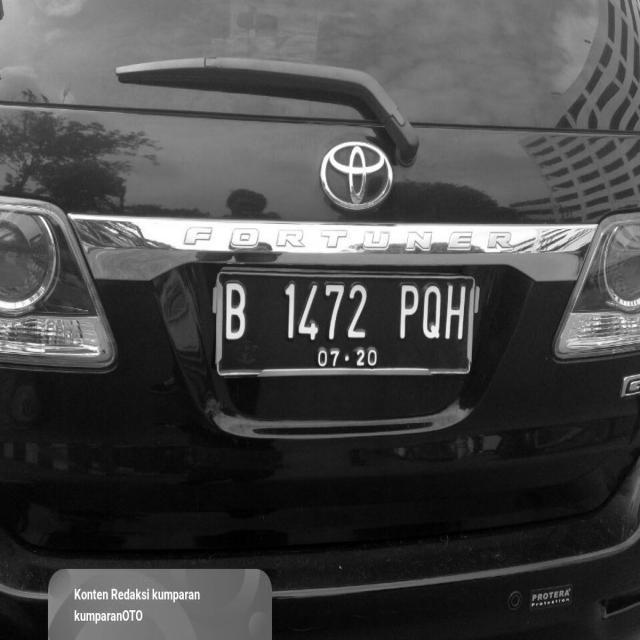clone-license-plate: (219, 270, 471, 366)
